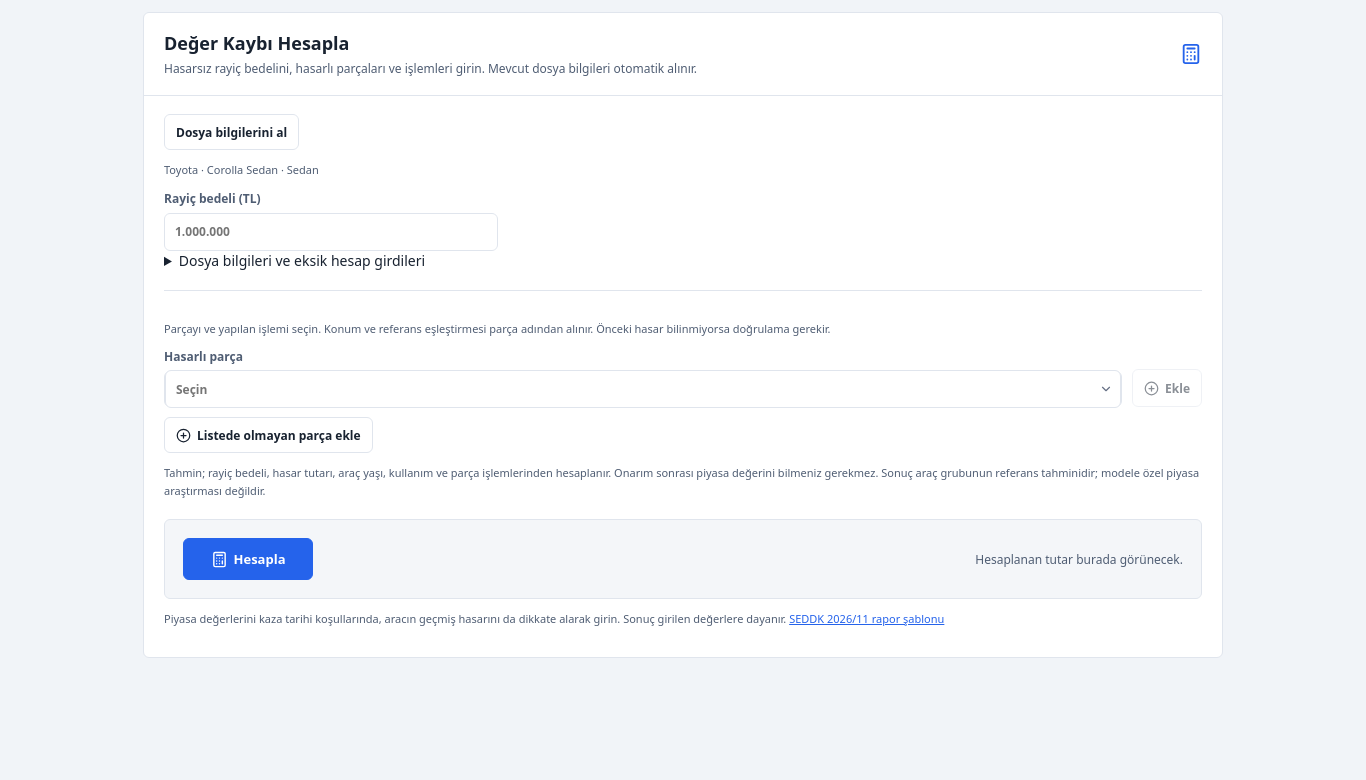
Test case: automatic value loss calculator › blocks an unknown part history without treating it as undamaged
The image size is (1366, 780).
Click the dropdown named "Hasarlı parça" at point(643, 389), box [165, 370, 1121, 408]
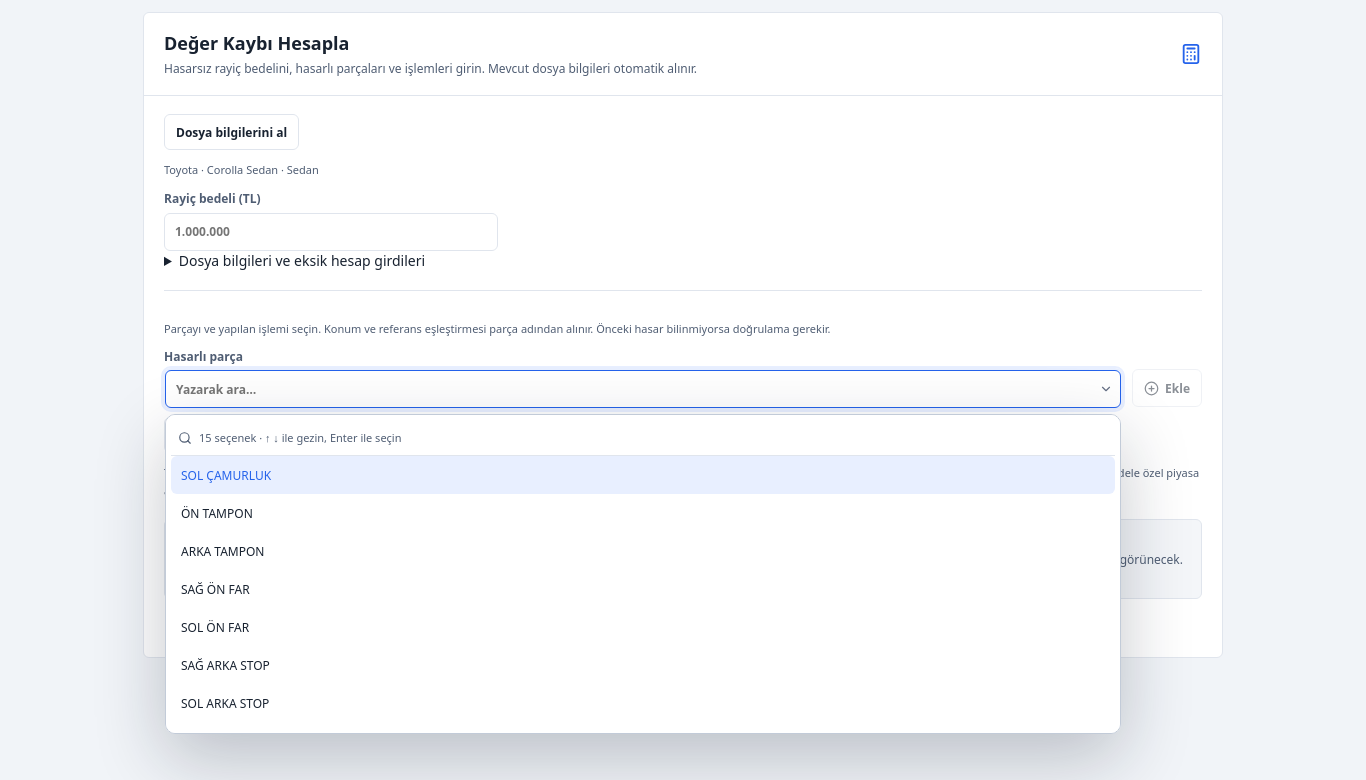
Click the option "SOL ÇAMURLUK" at point(226, 475), box [171, 456, 1115, 494]
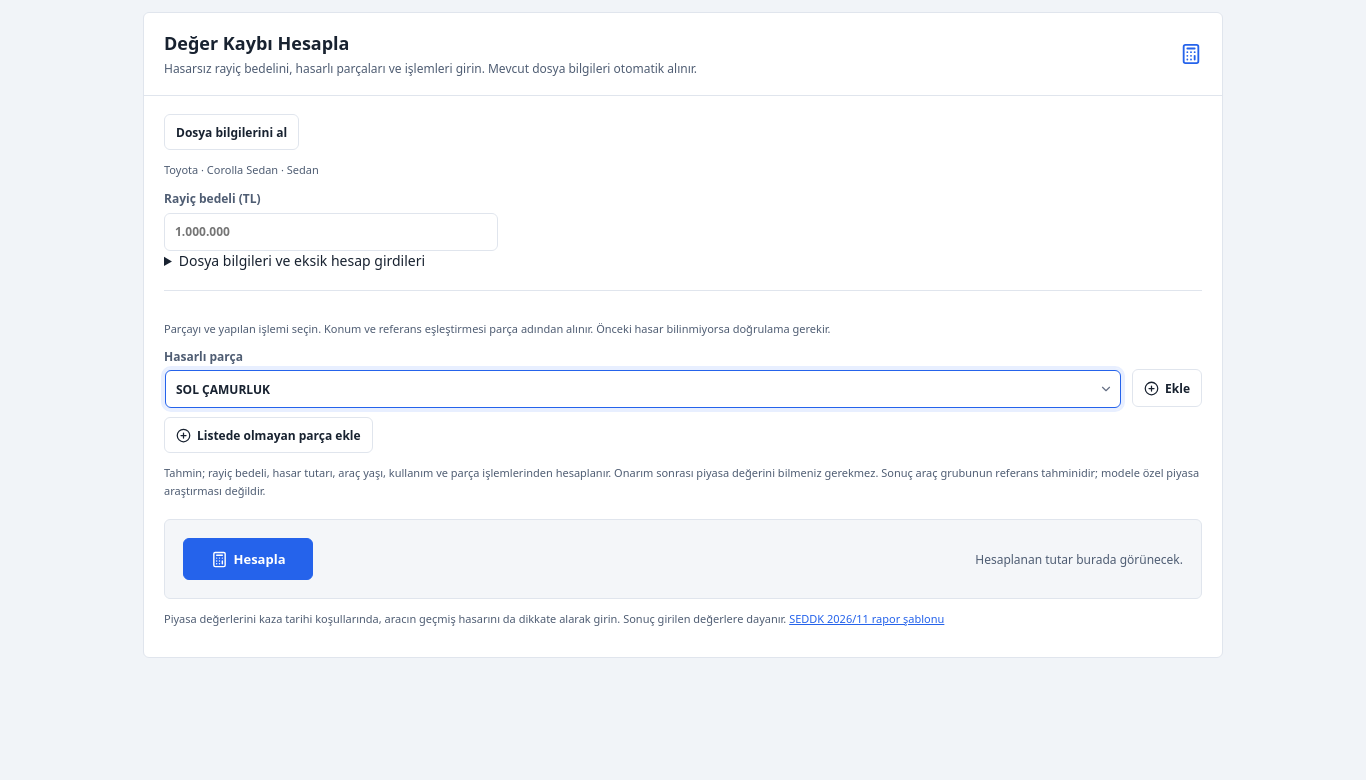
Click the button "Ekle" at point(1167, 388), box [1132, 369, 1202, 407]
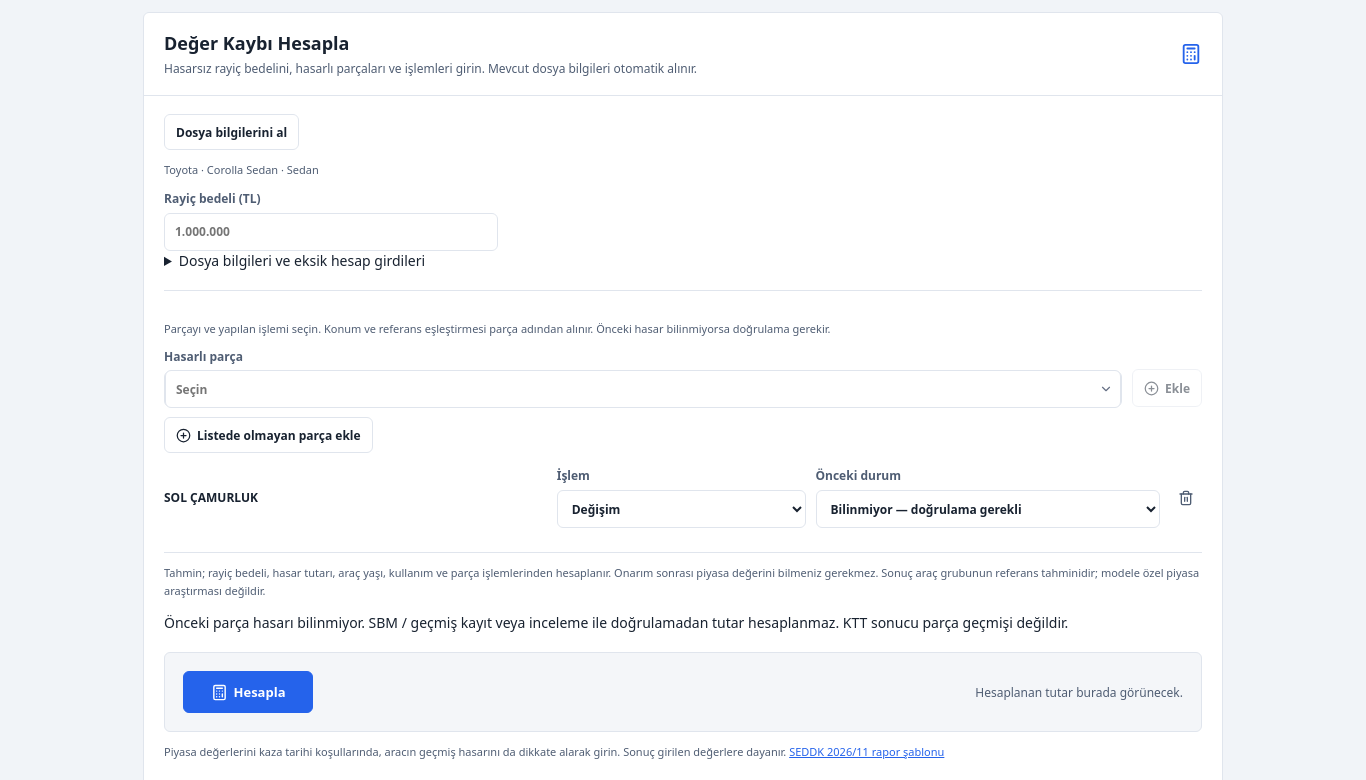
Click the button "Hesapla" at point(248, 692), box [183, 671, 313, 713]
(page scrolled)
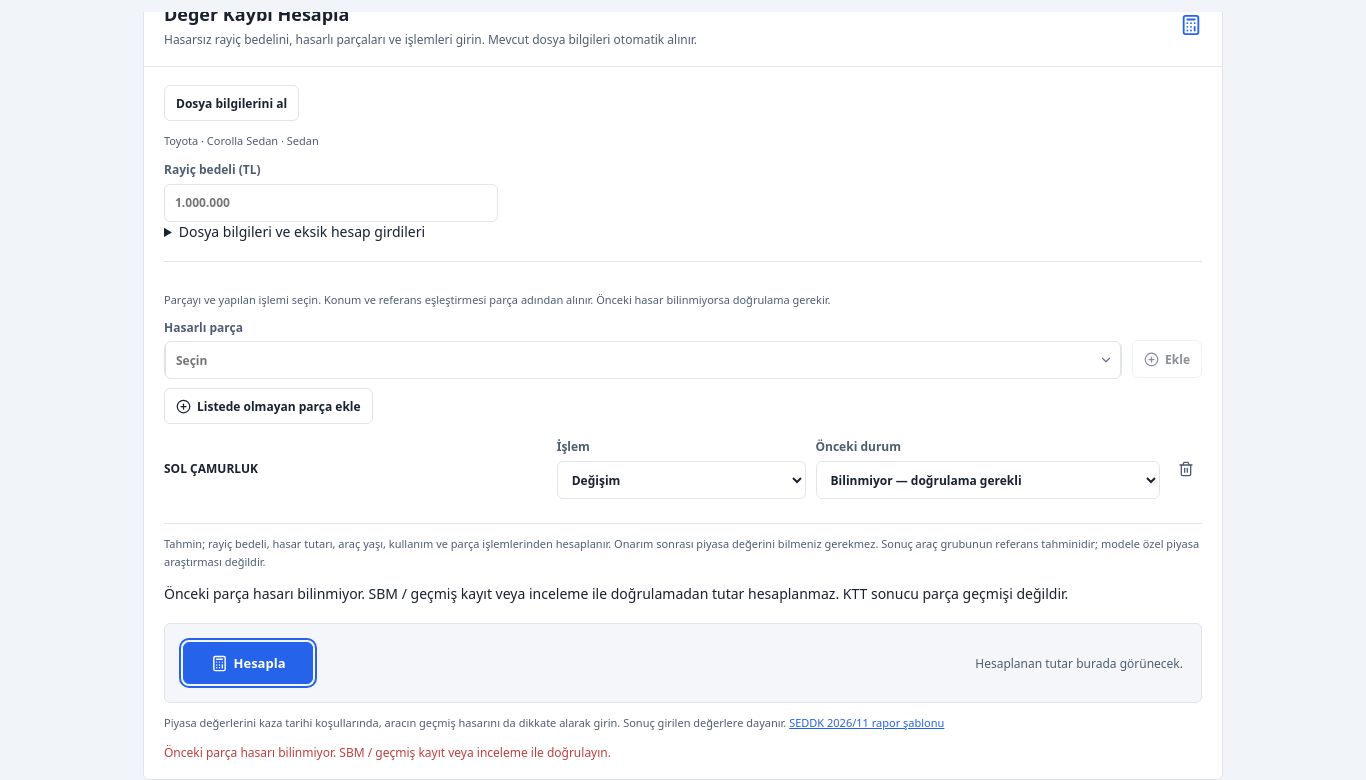
Expected: the dropdown named "SOL ÇAMURLUK önceki durumu" shows "Bilinmiyor — doğrulama gerekli", [816, 461, 1160, 499]
Expected: the 2nd message shows "Önceki parça hasarı bilinmiyor", [164, 744, 611, 761]
